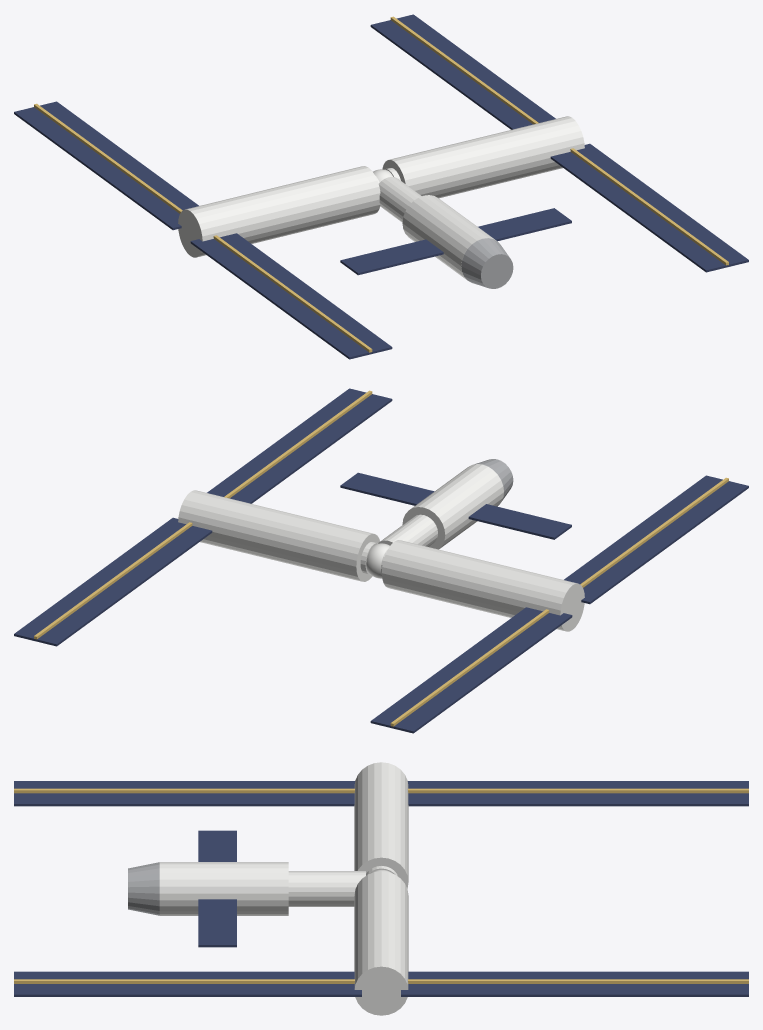
File: tiangong.glb
3 renders of one model, top to bottom at view 1: azimuth 30°, elevation 25°; view 2: azimuth 150°, elevation 25°; view 3: azimuth 270°, elevation 25°, orthographic. The views are drawn at different scales.
Visible parts, largest first — view 1: tiangong; view 2: tiangong; view 3: tiangong.
Boxes of the visible parts, <box> form: tiangong: <box>14,14,748,359</box>; tiangong: <box>14,388,748,733</box>; tiangong: <box>14,762,748,1015</box>.
Bounding box in the file's own units: 1.38 × 0.1474 × 2.
